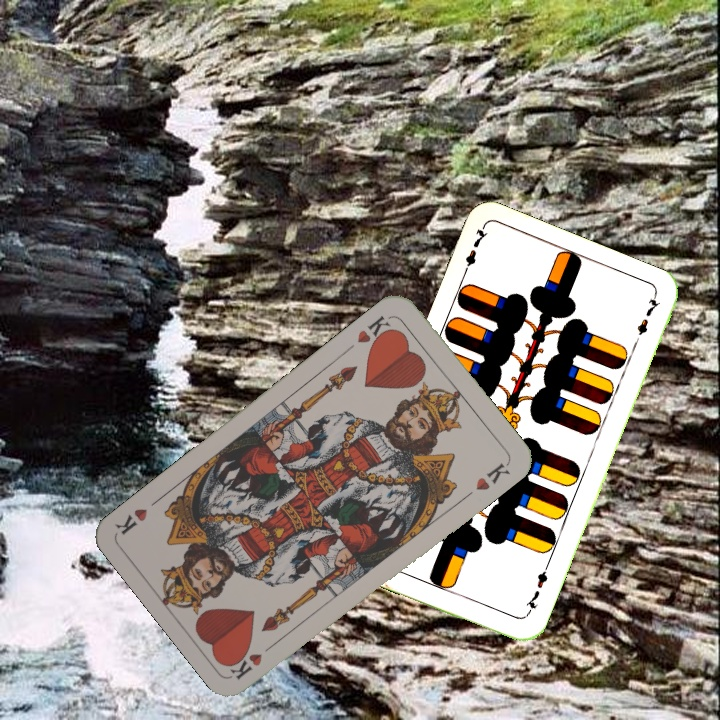E7: (458, 223, 489, 280), (521, 562, 551, 618)
HK: (226, 637, 280, 682), (353, 311, 397, 351)
